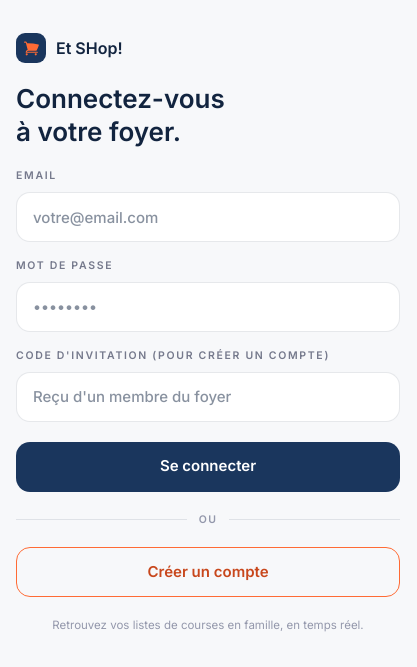
Scenario: Authentification › affiche une erreur avec des credentials invalides
Type "invalide@test.com" into the field with test id "login-email" at (208, 217), box [16, 192, 400, 242]
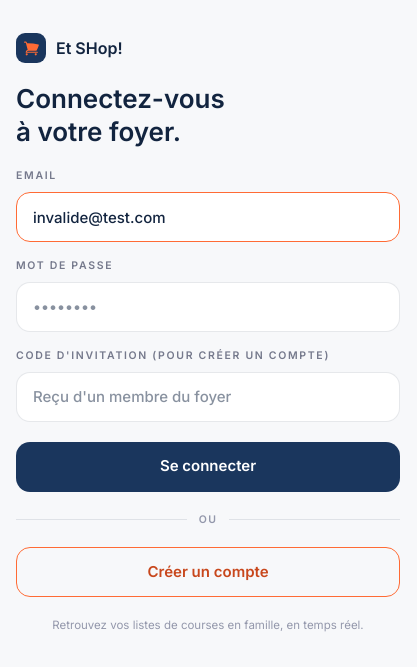
Type "mauvaismdp" into the password field with test id "login-password" at (208, 307), box [16, 282, 400, 332]
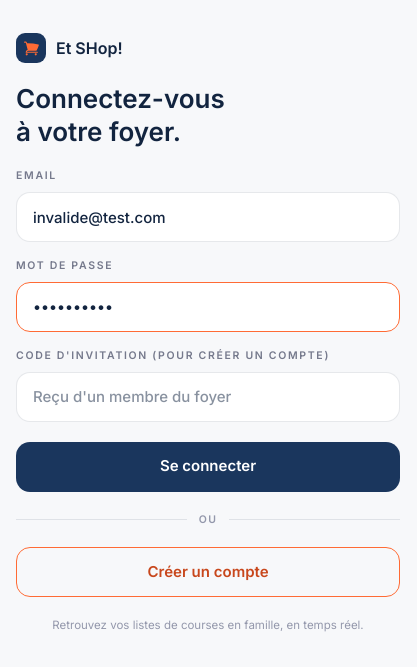
Click the button with test id "login-submit" at (208, 467), box [16, 442, 400, 492]
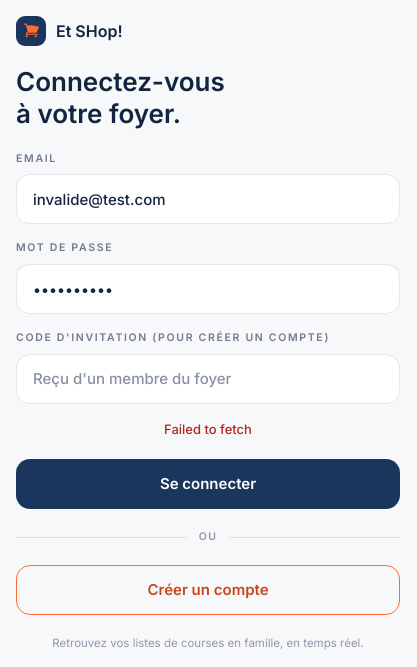
Now the text "Failed to fetch" is shown, box [164, 421, 252, 437]
